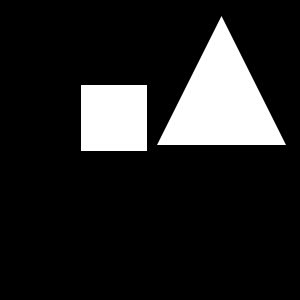circle: (81, 85, 147, 151)
triangle: (157, 16, 286, 145)
